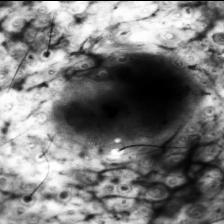Potentially Malignant Skin Tumors: (92, 55, 184, 129)
